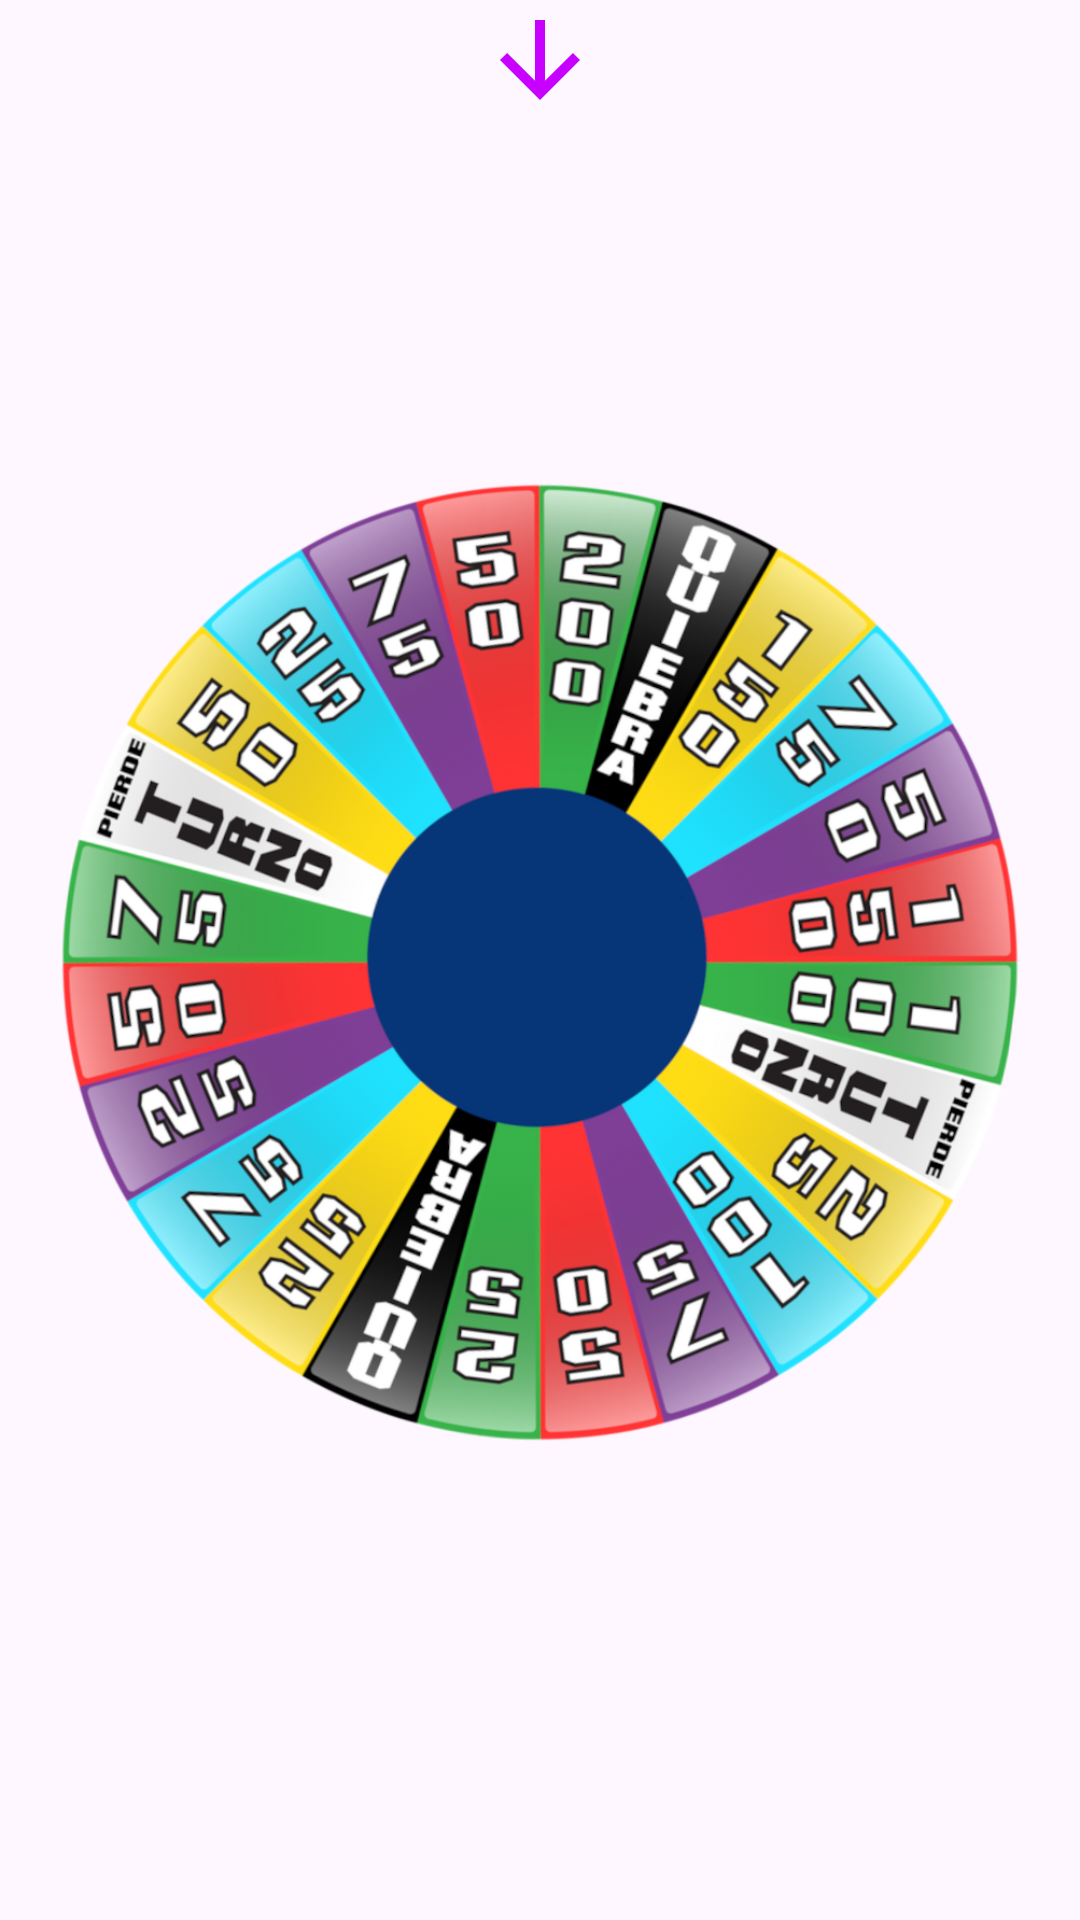

Screen size 1080 x 1920. Icon name, then its center in pixels as point (x, y):
down: point (540, 60)
